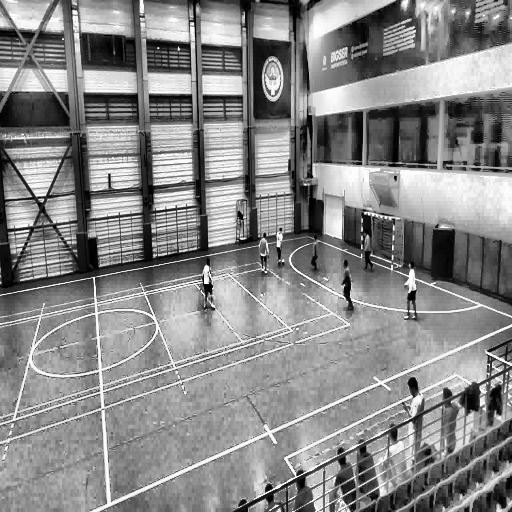ball: (280, 256, 287, 267)
player: (402, 378, 424, 468), (403, 261, 416, 320), (202, 257, 214, 310), (342, 258, 354, 311), (363, 228, 373, 271), (258, 232, 268, 274), (275, 226, 284, 268), (311, 236, 318, 271)
